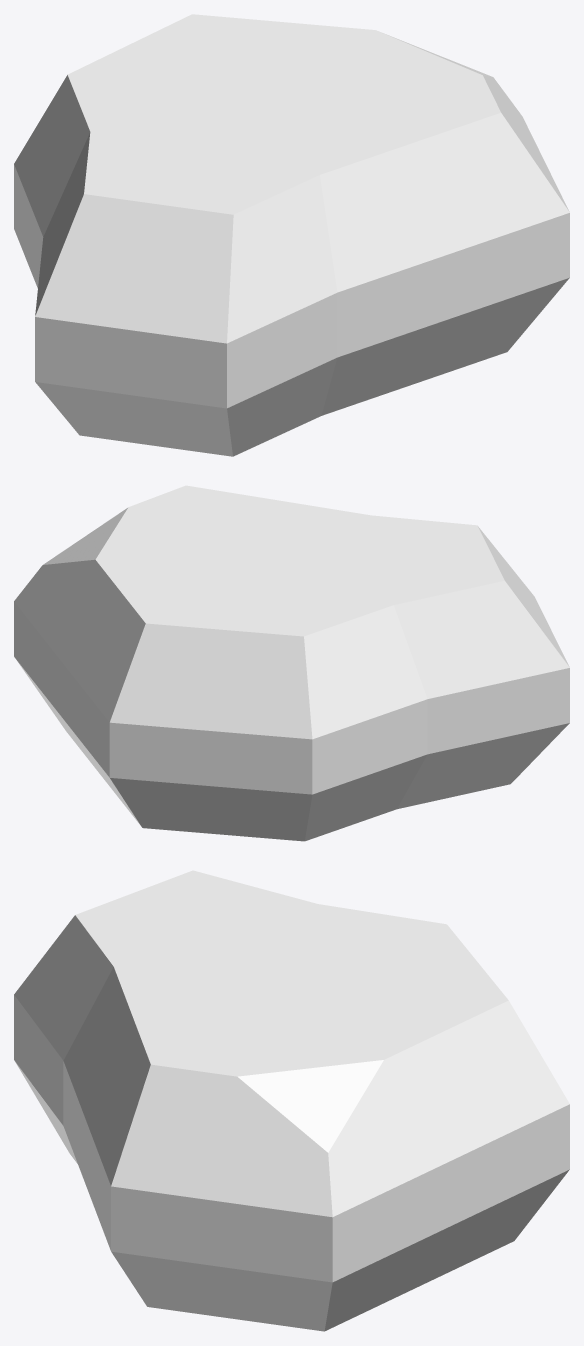
The model's file is asteroid8.glb.
The picture shows the model from 3 angles, top to bottom: view 1: azimuth 30°, elevation 25°; view 2: azimuth 150°, elevation 25°; view 3: azimuth 270°, elevation 25°; orthographic projection. The views are drawn at different scales.
Visible parts, largest first — view 1: mergedBlocks(Clone); view 2: mergedBlocks(Clone); view 3: mergedBlocks(Clone).
Part boxes in pixels (x1=…): mergedBlocks(Clone): x1=14, y1=14, x2=569, y2=456; mergedBlocks(Clone): x1=14, y1=485, x2=569, y2=841; mergedBlocks(Clone): x1=14, y1=870, x2=569, y2=1331.
Size of the model in its own units: 1.1 by 0.4384 by 0.9199.
1 material, 1 textured.
